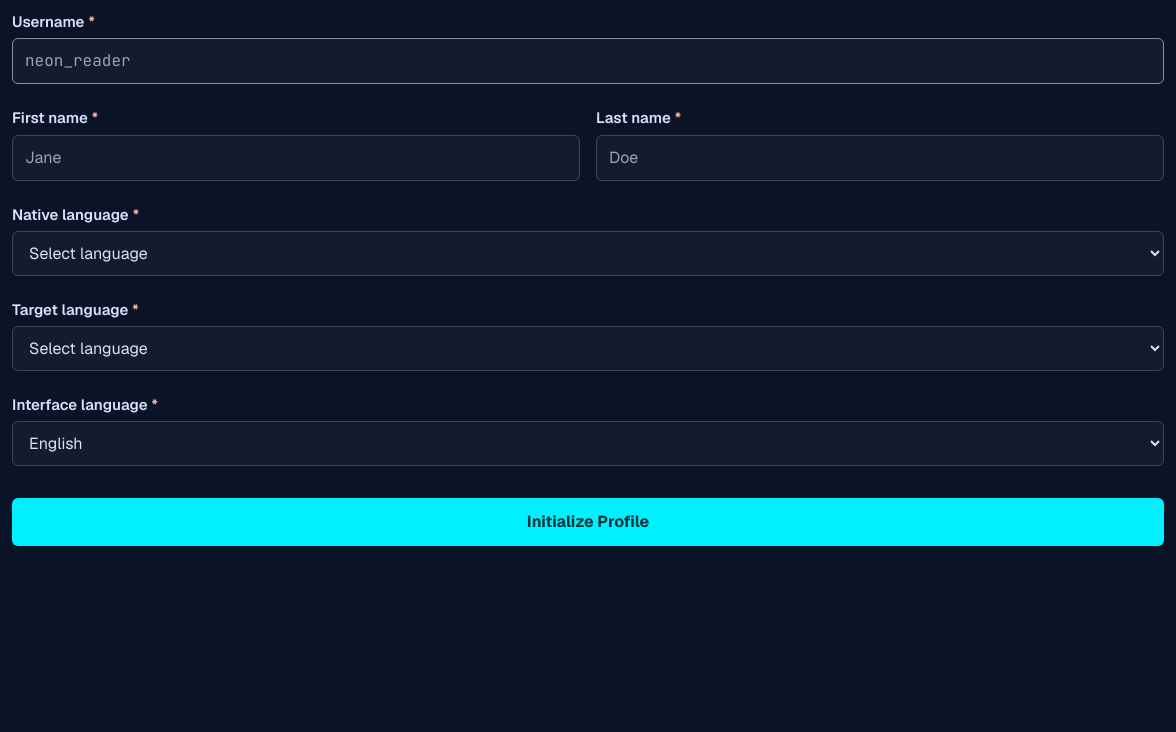
it: CompleteProfileForm › shows backend-aligned client validation errors
The width and height of the screenshot is (1176, 732).
Click the button "Initialize Profile" at coordinates (588, 522), box top-left (12, 498), bottom-right (1164, 546)
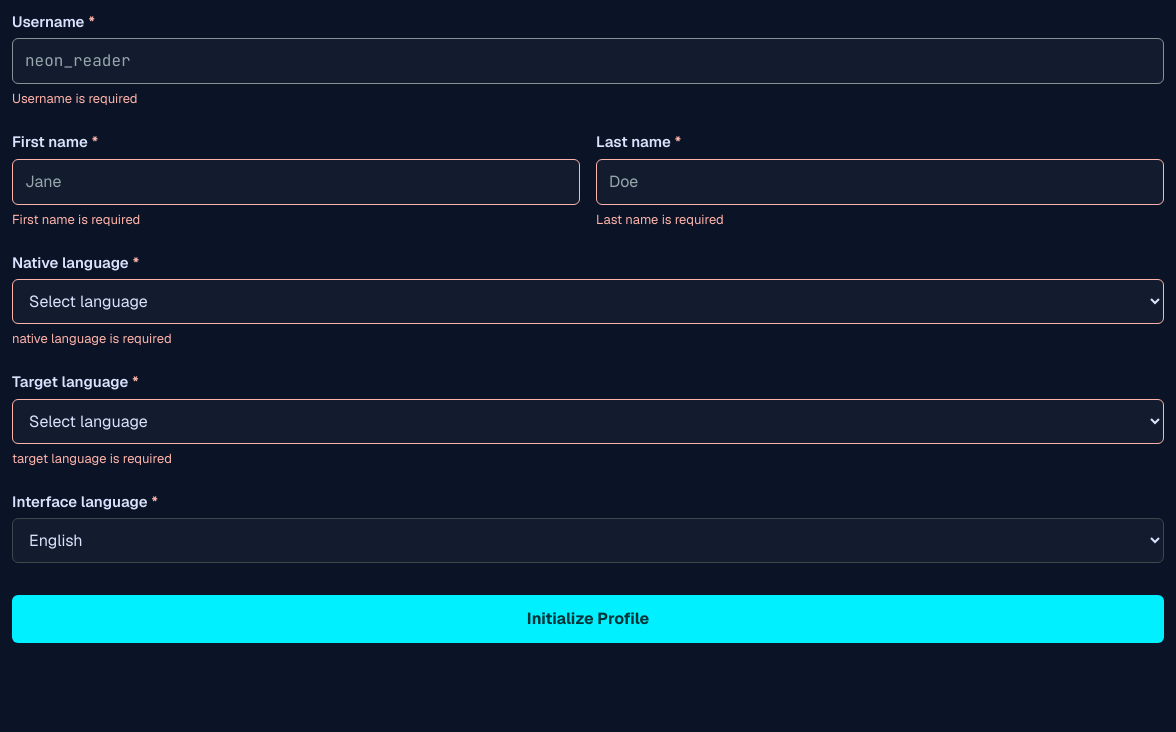
Result: the text "Username is required" is shown at top-left (12, 90), bottom-right (138, 107)
Result: the text "First name is required" is shown at top-left (12, 211), bottom-right (140, 228)
Result: the text "Last name is required" is shown at top-left (596, 211), bottom-right (724, 228)
